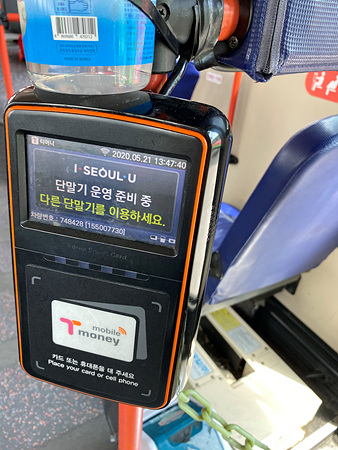terminal: (8, 85, 225, 406)
